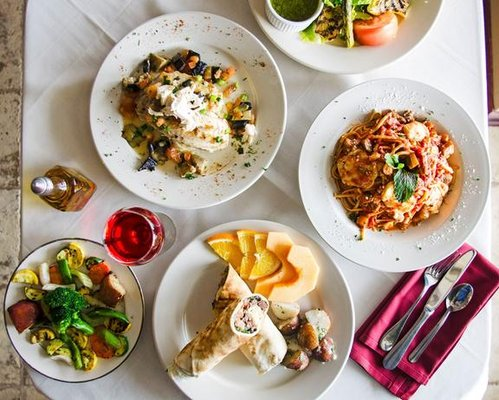pizza: (103, 205, 177, 268)
sushi: (88, 9, 288, 211), (297, 78, 492, 274), (153, 218, 355, 398), (2, 238, 145, 384), (247, 0, 444, 74)
